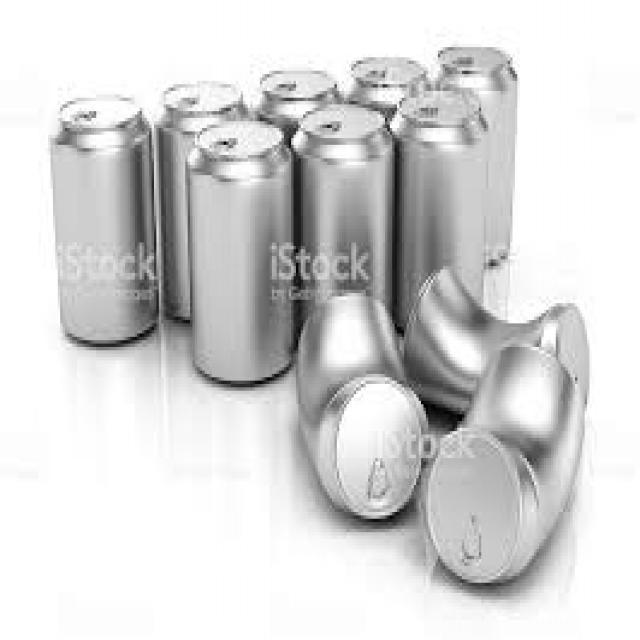recyclable: (426, 341, 586, 585), (294, 292, 431, 523), (184, 121, 294, 386), (400, 267, 590, 420), (48, 96, 158, 347), (387, 85, 490, 332), (290, 102, 394, 334), (155, 80, 252, 322), (434, 45, 516, 269), (254, 68, 343, 144), (344, 51, 430, 125)
